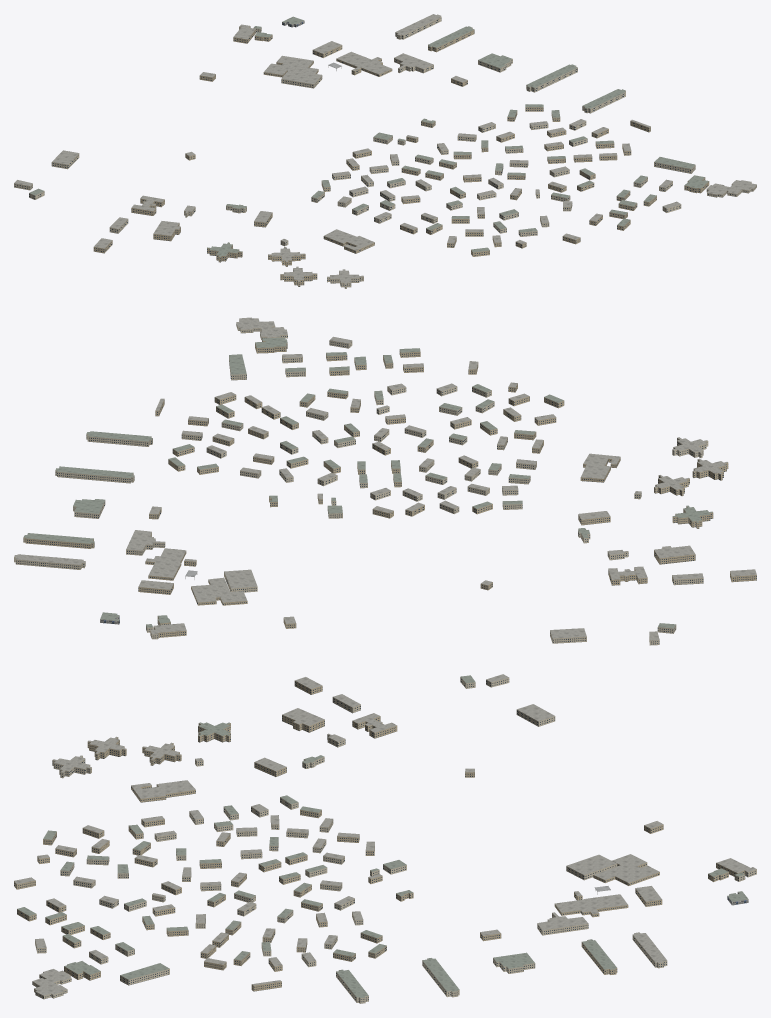
Rendered from ArahaTown_Block_E01024_N03072.gltf.
3 renders of one model, top to bottom at view 1: azimuth 30°, elevation 25°; view 2: azimuth 150°, elevation 25°; view 3: azimuth 270°, elevation 25°, orthographic. The views are drawn at different scales.
Parts seen in each view (by area): view 1: ArahaTown_Block_E01024_N03072; view 2: ArahaTown_Block_E01024_N03072; view 3: ArahaTown_Block_E01024_N03072.
Boxes of the visible parts, x1,y1,x2,y2 form: ArahaTown_Block_E01024_N03072: (14,14,756,288); ArahaTown_Block_E01024_N03072: (14,317,756,645); ArahaTown_Block_E01024_N03072: (14,674,756,1003).
Size of the model in its own units: 1054 by 23.01 by 1013.
Materials: 7 (6 with a texture image).
